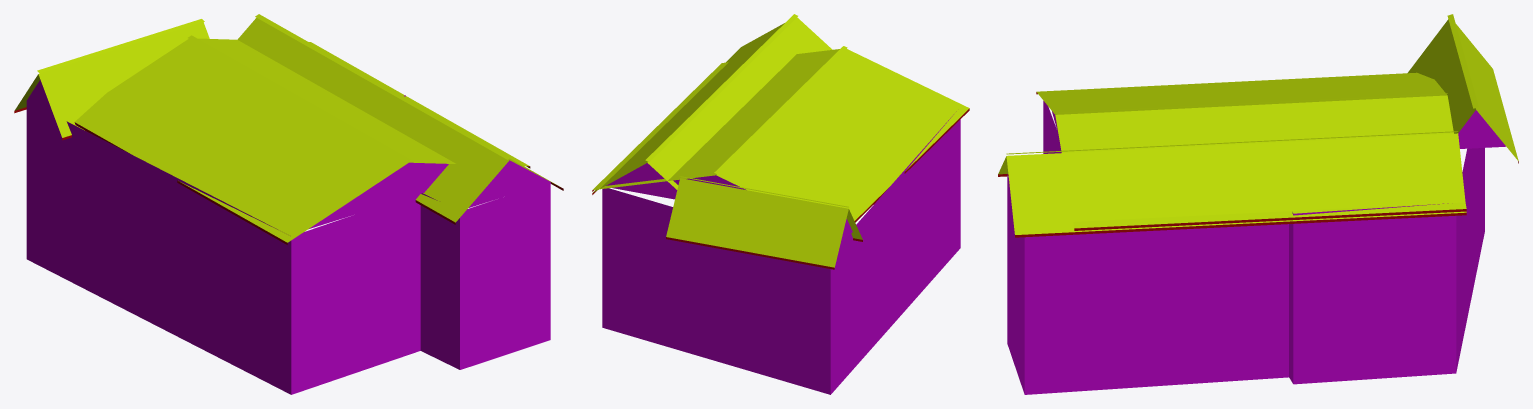
Rendered from niv_63.glb.
The picture shows the model from 3 angles, left to right: view 1: azimuth 30°, elevation 25°; view 2: azimuth 150°, elevation 25°; view 3: azimuth 270°, elevation 25°; orthographic projection. The views are drawn at different scales.
Parts seen in each view (by area): view 1: niv_63; view 2: niv_63; view 3: niv_63.
Part boxes in pixels (x1,y1,x2,y2): niv_63: [14, 14, 563, 394]; niv_63: [592, 14, 969, 394]; niv_63: [998, 14, 1518, 394].
Size of the model in its own units: 17.31 by 10.14 by 22.19.
